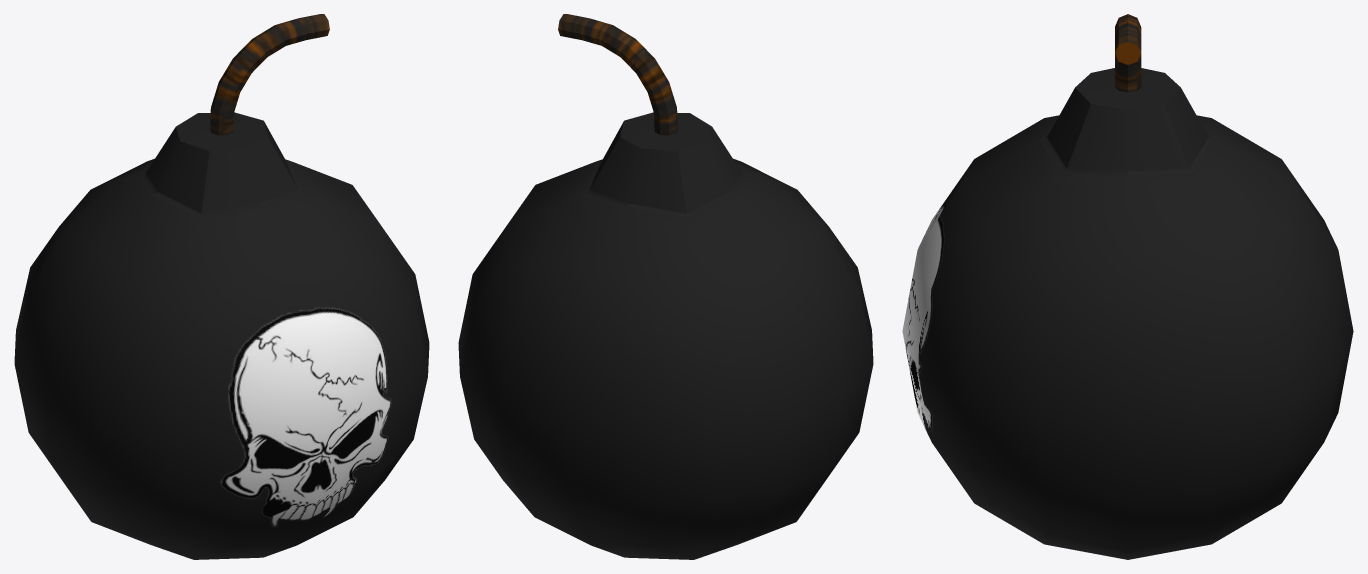
File: boom.fbx
The picture shows the model from 3 angles, left to right: view 1: azimuth 30°, elevation 25°; view 2: azimuth 150°, elevation 25°; view 3: azimuth 270°, elevation 25°; orthographic projection. The views are drawn at different scales.
Visible parts, largest first — view 1: boom; view 2: boom; view 3: boom.
Boxes of the visible parts, bbox=[...] form: boom: bbox=[14, 14, 429, 559]; boom: bbox=[458, 14, 873, 559]; boom: bbox=[902, 14, 1353, 559].
Size of the model in its own units: 1.76 by 2.36 by 1.76.
Materials: 1 (1 with a texture image).
